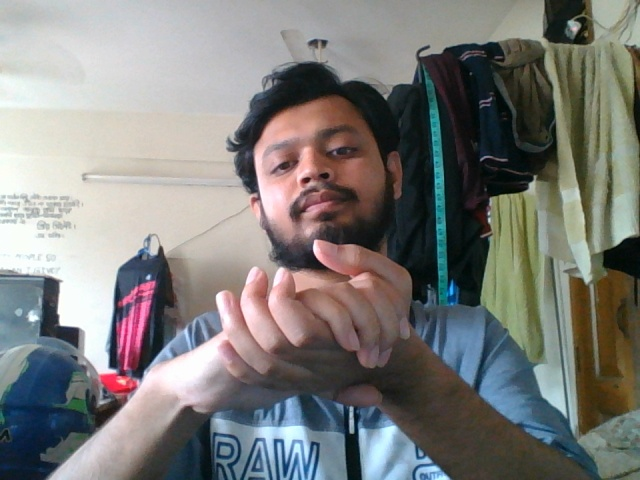bondhu: (62, 232, 555, 446)
